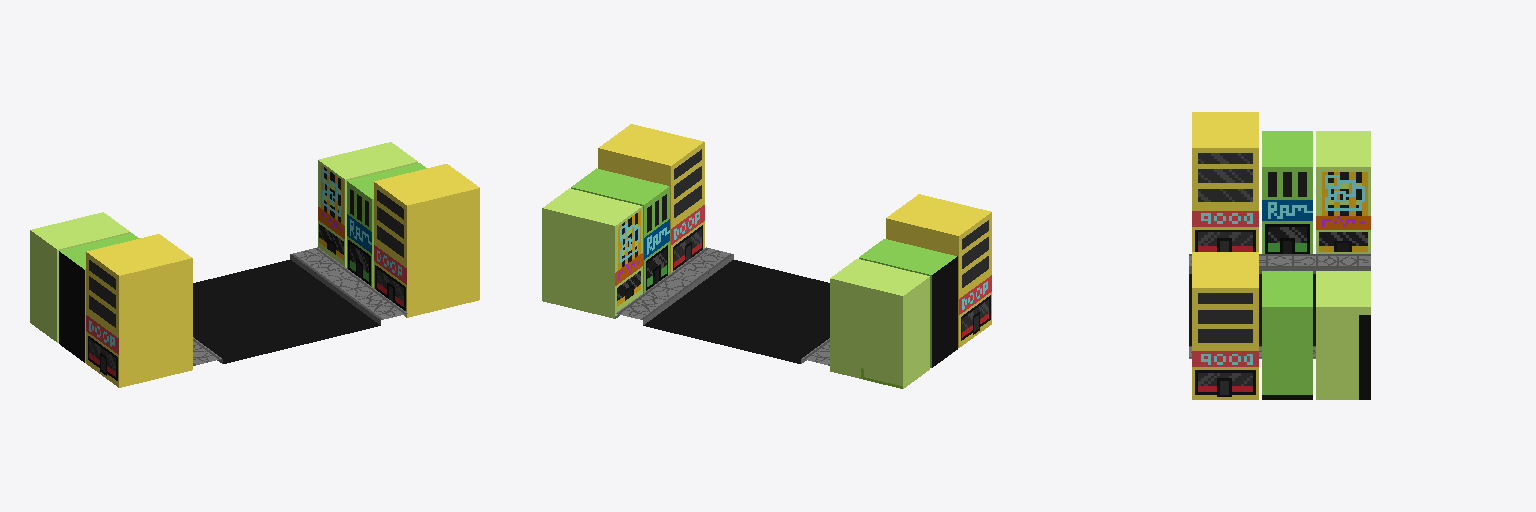
3 renders of one model, left to right at view 1: azimuth 30°, elevation 25°; view 2: azimuth 150°, elevation 25°; view 3: azimuth 270°, elevation 25°, orthographic.
Visible parts, largest first — view 1: plane, cube, cube.004, cube.000, cube.002, cube.001, cube.003; view 2: plane, cube.000, cube.002, cube, cube.004, cube.001, cube.003; view 3: cube.004, cube, cube.002, cube.000, cube.003, cube.001, plane.
Boxes of the visible parts, box(x1,y1,x2,y2) form: plane: box(193, 247, 407, 365); cube: box(86, 234, 192, 387); cube.004: box(374, 164, 479, 317); cube.000: box(30, 212, 130, 342); cube.002: box(318, 142, 417, 267); cube.001: box(59, 233, 139, 362); cube.003: box(347, 163, 426, 287); plane: box(616, 247, 829, 365); cube.000: box(830, 259, 929, 388); cube.002: box(542, 188, 642, 318); cube: box(886, 194, 991, 347); cube.004: box(598, 124, 704, 272); cube.001: box(859, 239, 957, 367); cube.003: box(571, 168, 669, 292); cube.004: box(1192, 252, 1258, 399); cube: box(1192, 112, 1258, 251); cube.002: box(1316, 271, 1370, 399); cube.000: box(1316, 131, 1370, 253); cube.003: box(1262, 271, 1312, 399); cube.001: box(1262, 131, 1312, 253); plane: box(1189, 254, 1370, 358).
Size of the model in its own units: 8.62 by 2.56 by 3.75.
1 materials, 1 textured.